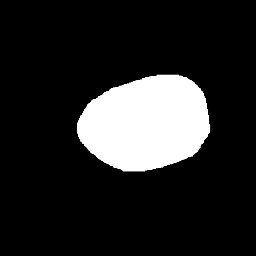mass: (80, 75, 206, 161)
